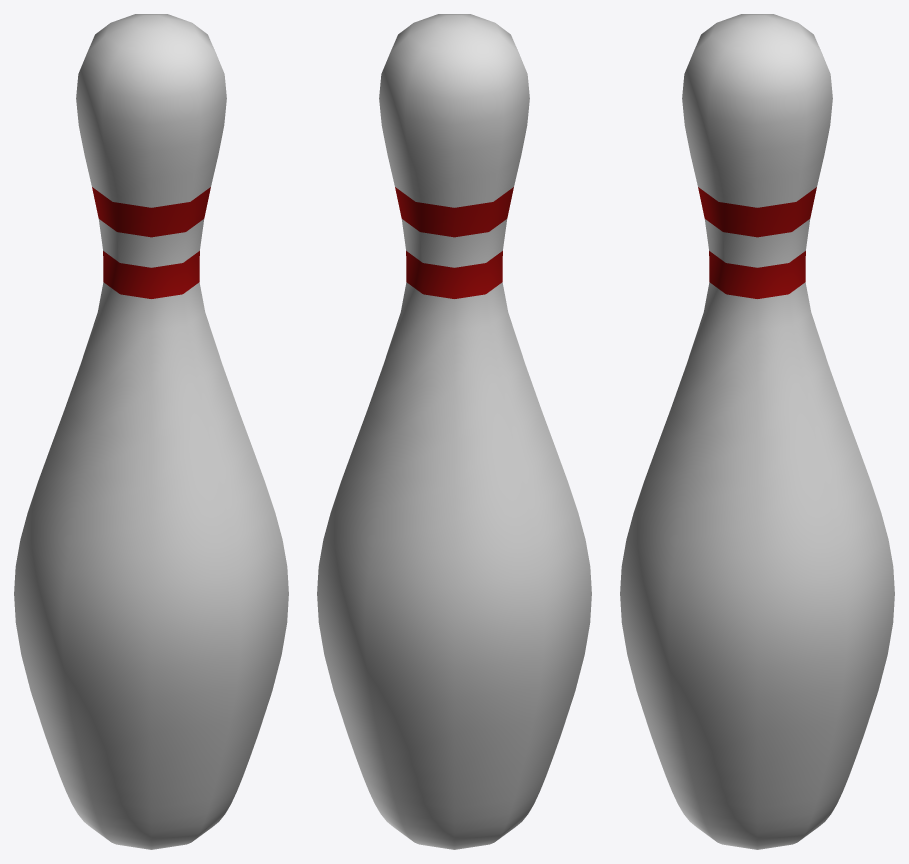
File: pin.fbx
The picture shows the model from 3 angles, left to right: view 1: azimuth 30°, elevation 25°; view 2: azimuth 150°, elevation 25°; view 3: azimuth 270°, elevation 25°; orthographic projection.
Parts seen in each view (by area): view 1: node_id7 (×2); view 2: node_id7 (×2); view 3: node_id7 (×2).
Boxes of the visible parts, bbox=[...] form: node_id7 (×2): bbox=[14, 14, 288, 849]; node_id7 (×2): bbox=[317, 14, 591, 849]; node_id7 (×2): bbox=[620, 14, 894, 849].
Bounding box in the file's own units: 0.1542 × 0.512 × 0.1566.
